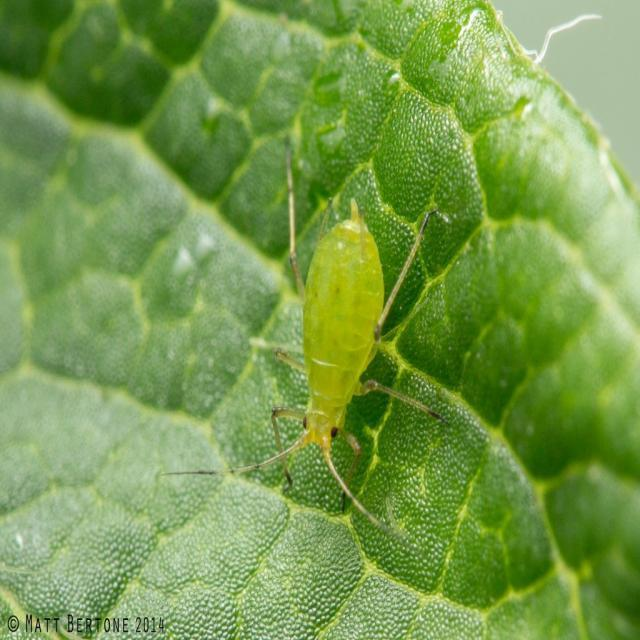Aphids: (179, 185, 465, 547)
